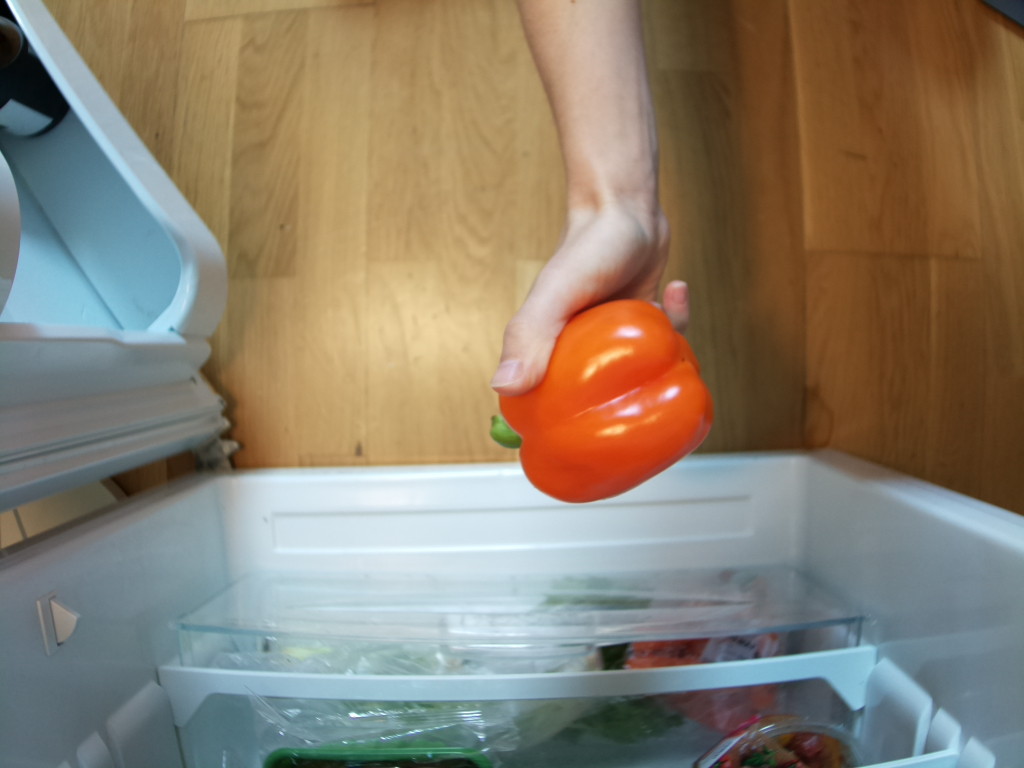pepper: (488, 294, 717, 507)
